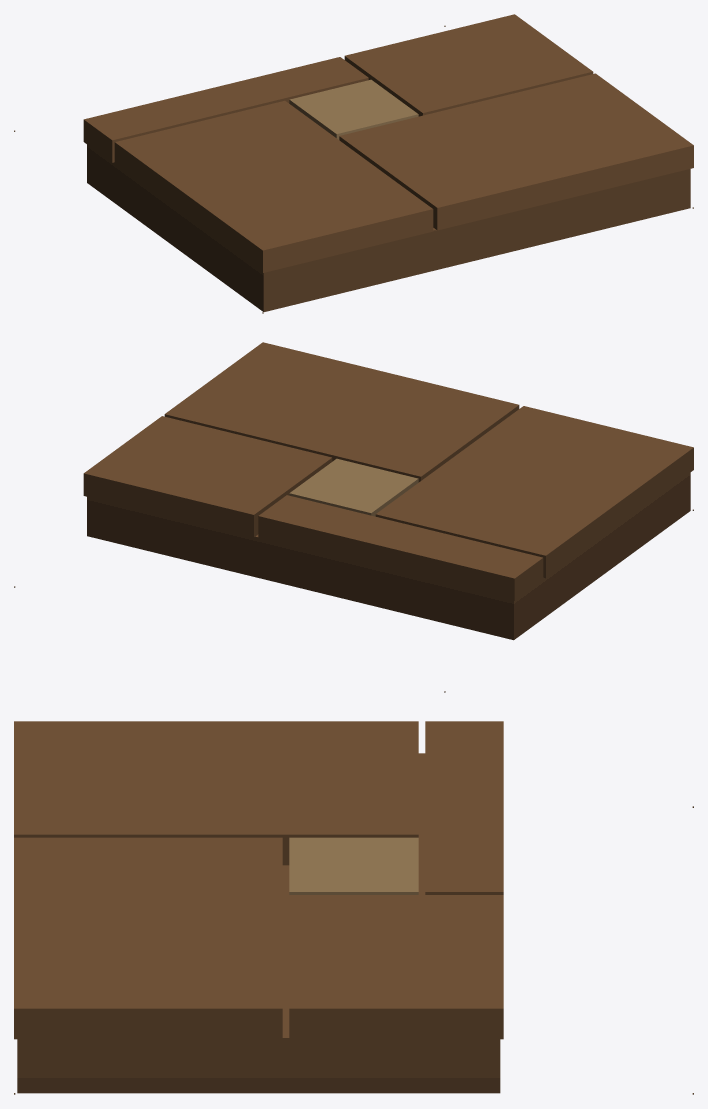
File: floor_wood_tee.glb
The picture shows the model from 3 angles, top to bottom: view 1: azimuth 30°, elevation 25°; view 2: azimuth 150°, elevation 25°; view 3: azimuth 270°, elevation 25°; orthographic projection. The views are drawn at different scales.
Size of the model in its own units: 1 by 0.14 by 1.
Materials: 1 (1 with a texture image).
